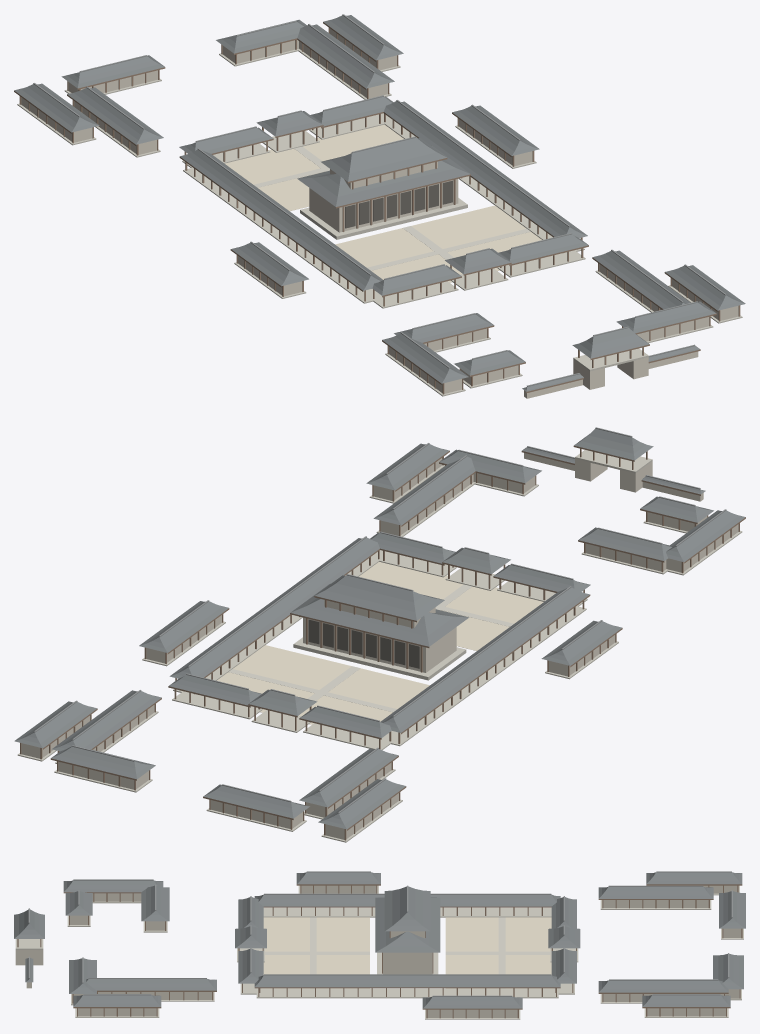
The model's file is set1.glb.
3 views of the same model, one above another, from view 1: azimuth 30°, elevation 25°; view 2: azimuth 150°, elevation 25°; view 3: azimuth 270°, elevation 25° (orthographic). The views are drawn at different scales.
Parts seen in each view (by area): view 1: Set 1 palace courtyard; view 2: Set 1 palace courtyard; view 3: Set 1 palace courtyard.
Part boxes in pixels (<box>): Set 1 palace courtyard: <box>14,14,745,398</box>; Set 1 palace courtyard: <box>14,427,745,842</box>; Set 1 palace courtyard: <box>14,871,745,1019</box>.
Size of the model in its own units: 84.1 by 15.88 by 192.
